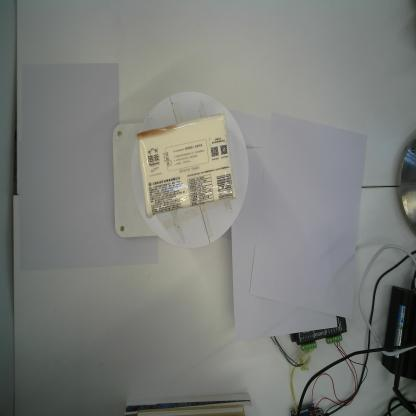Tissue: (136, 112, 236, 220)
